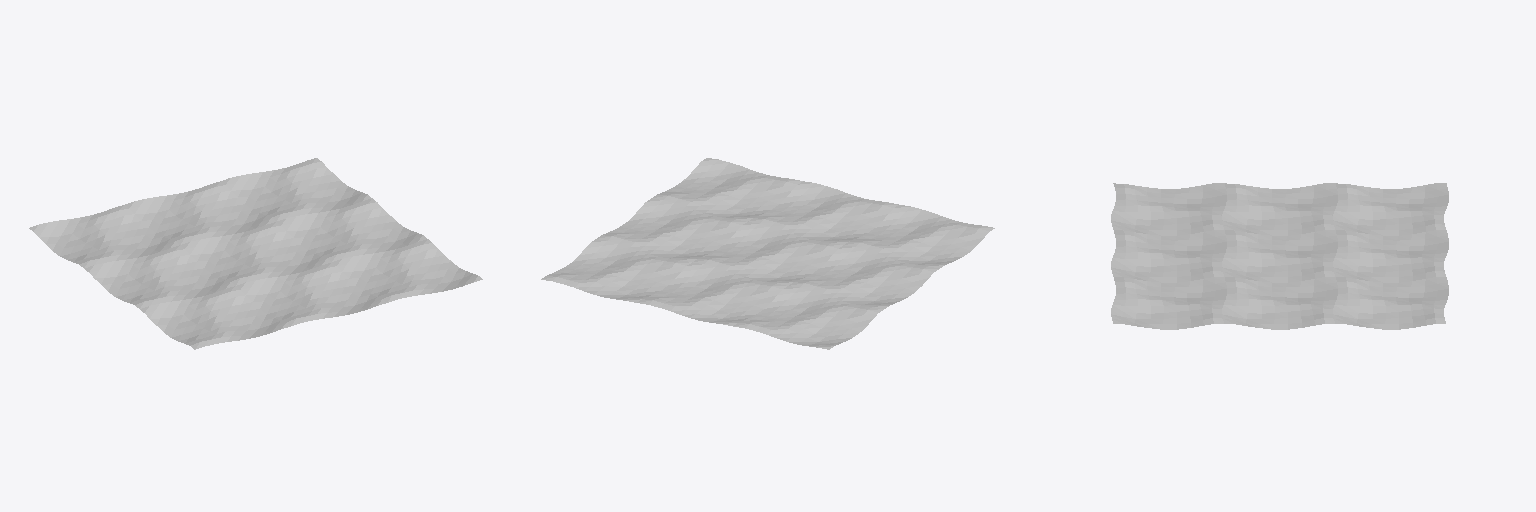
Rendered from ocean_000288.obj.
The picture shows the model from 3 angles: view 1: azimuth 30°, elevation 25°; view 2: azimuth 150°, elevation 25°; view 3: azimuth 270°, elevation 25°; orthographic projection.
Parts seen in each view (by area): view 1: Ocean_Plan.001; view 2: Ocean_Plan.001; view 3: Ocean_Plan.001.
Boxes of the visible parts, x1=… form: Ocean_Plan.001: x1=29, y1=158, x2=482, y2=349; Ocean_Plan.001: x1=541, y1=158, x2=994, y2=349; Ocean_Plan.001: x1=1111, y1=183, x2=1448, y2=329.
Bounding box in the file's own units: 109292 × 2400 × 110699.